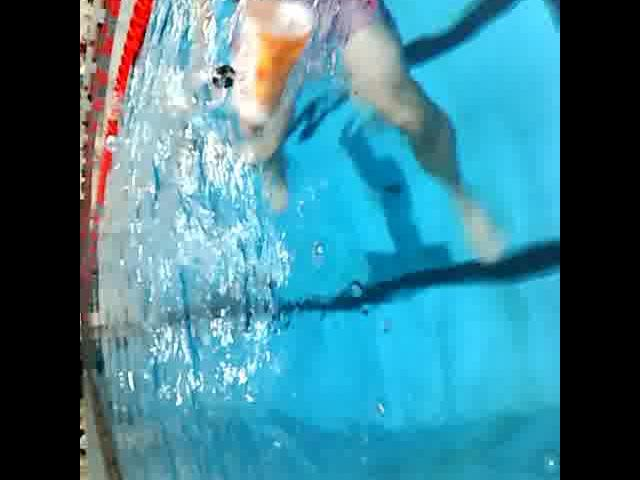Bottle: (229, 0, 319, 159)
